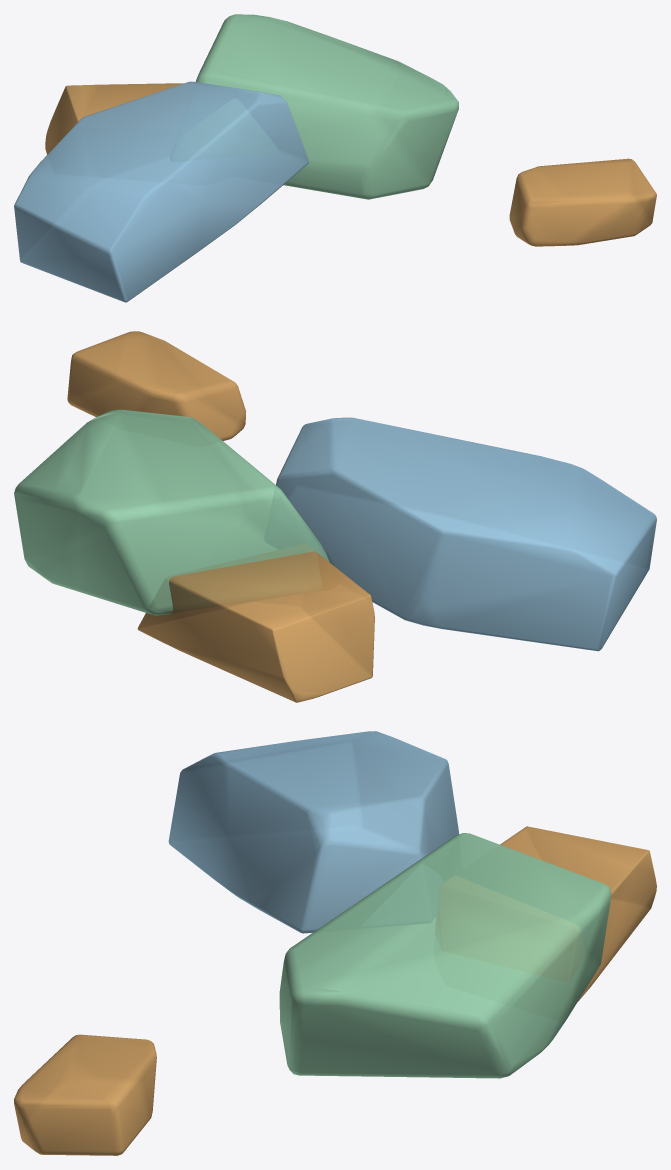
The model's file is shore_sea_glass_b.glb.
The picture shows the model from 3 angles, top to bottom: view 1: azimuth 30°, elevation 25°; view 2: azimuth 150°, elevation 25°; view 3: azimuth 270°, elevation 25°; orthographic projection. The views are drawn at different scales.
Parts seen in each view (by area): view 1: shore_sea_glass_b; view 2: shore_sea_glass_b; view 3: shore_sea_glass_b.
Part boxes in pixels (x1=…): shore_sea_glass_b: x1=14, y1=14, x2=656, y2=302; shore_sea_glass_b: x1=14, y1=331, x2=656, y2=702; shore_sea_glass_b: x1=14, y1=731, x2=656, y2=1155.
Size of the model in its own units: 3.02 by 0.6735 by 2.39.
